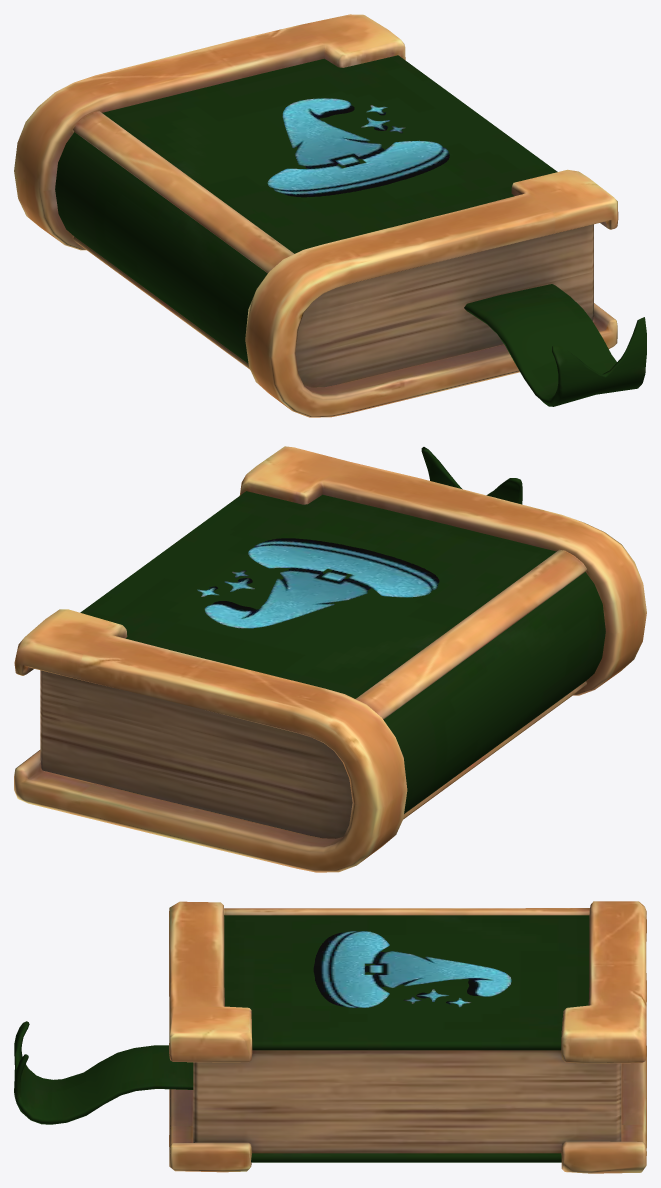
3 views of the same model, one above another, from view 1: azimuth 30°, elevation 25°; view 2: azimuth 150°, elevation 25°; view 3: azimuth 270°, elevation 25° (orthographic). The views are drawn at different scales.
Visible parts, largest first — view 1: SM_Skill_Tome_Magic_LOD0; view 2: SM_Skill_Tome_Magic_LOD0; view 3: SM_Skill_Tome_Magic_LOD0.
Part boxes in pixels (box(x1,y1,x2,y2)): SM_Skill_Tome_Magic_LOD0: box(14, 14, 646, 417); SM_Skill_Tome_Magic_LOD0: box(14, 446, 646, 872); SM_Skill_Tome_Magic_LOD0: box(14, 901, 646, 1173).
Size of the model in its own units: 0.2949 by 0.1242 by 0.5018.
Materials: 2 (2 with a texture image).
